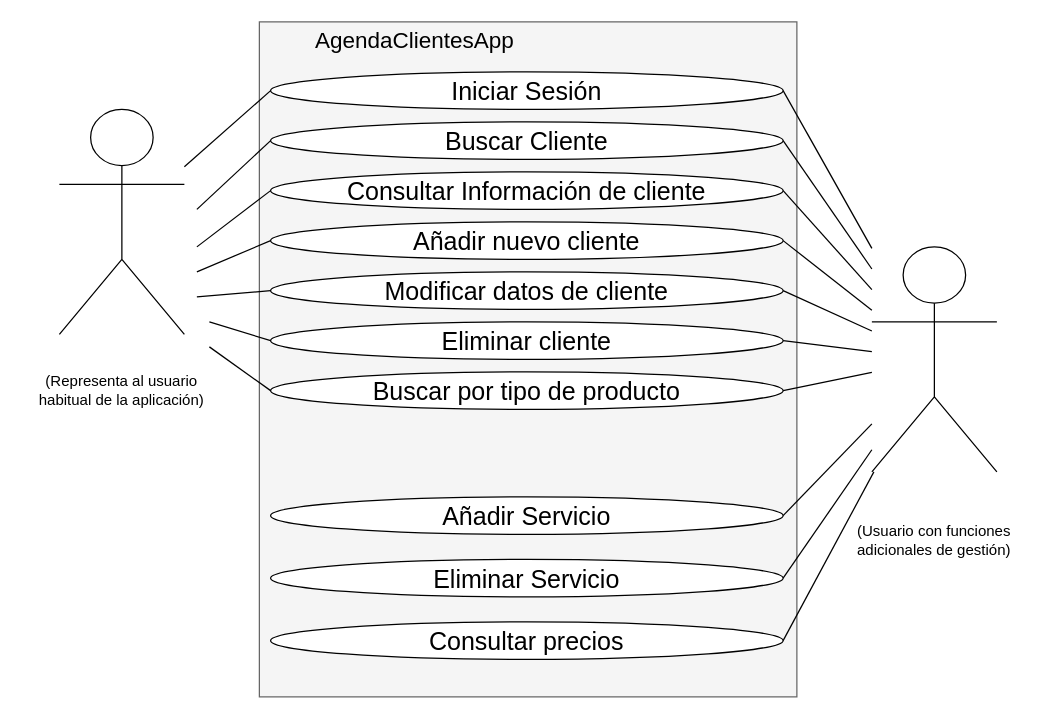
Image size: 1055x719. Some labels were removed from this diagram. The box of each missing label's shape, as (x1, y1, x2, y2) in pixels:
Administrador: (871, 246, 997, 472)
Usuario o Empleado: (58, 108, 184, 334)
